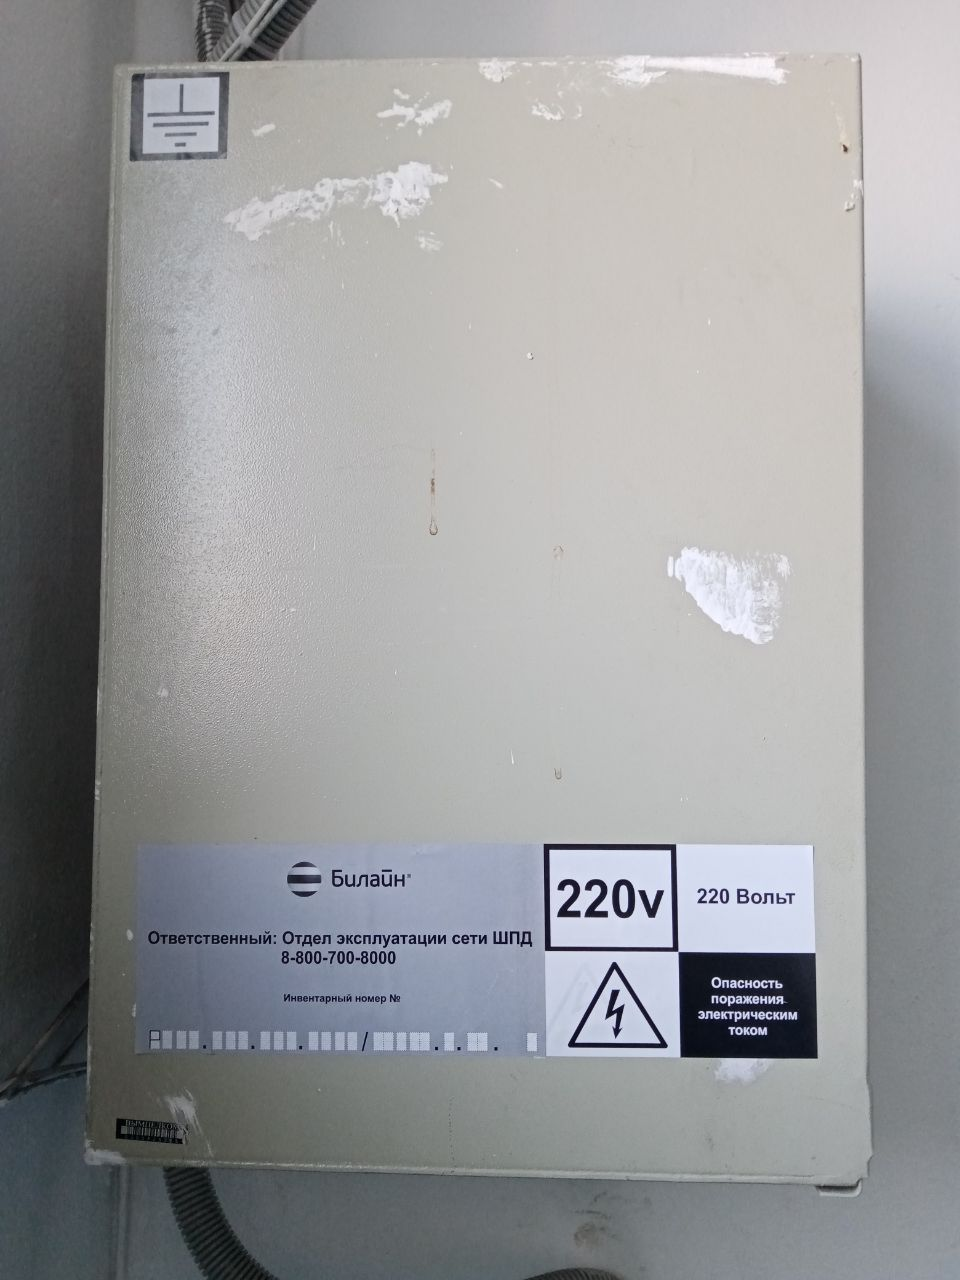sv-5: (75, 41, 891, 1201)
